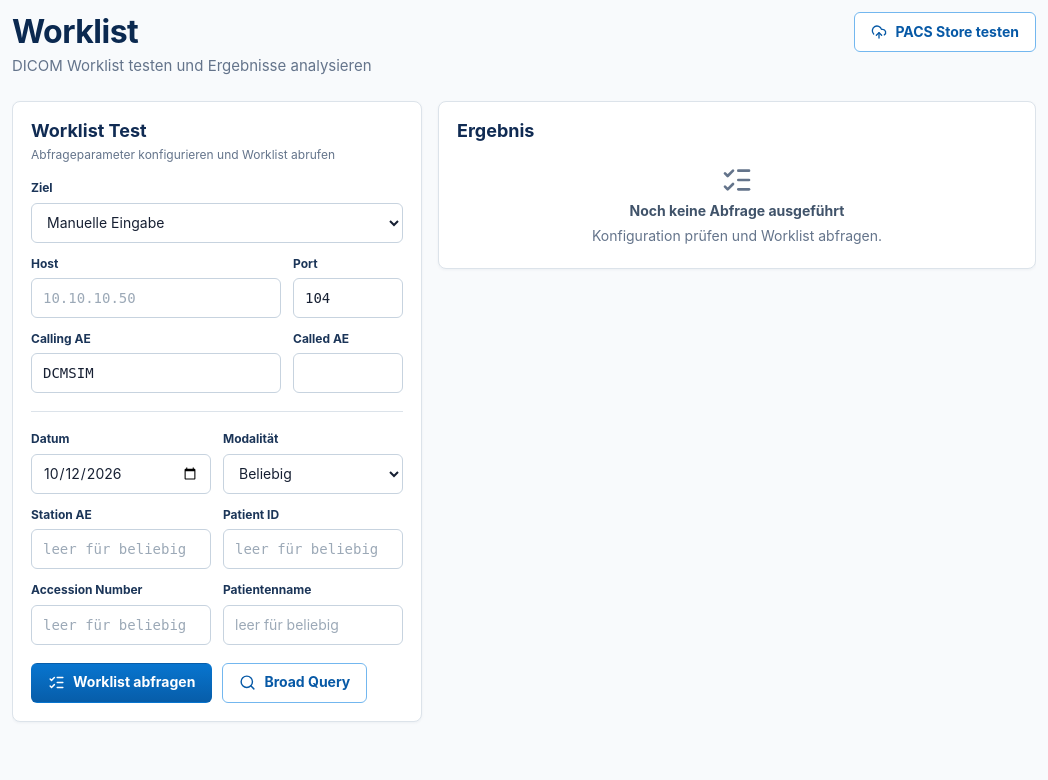
it: ignores a late Worklist response after the input changes
This screenshot has width=1048, height=780.
Type "127.0.0.1" into the field labelled "Host" at (156, 298), box top-left (31, 278), bottom-right (281, 318)
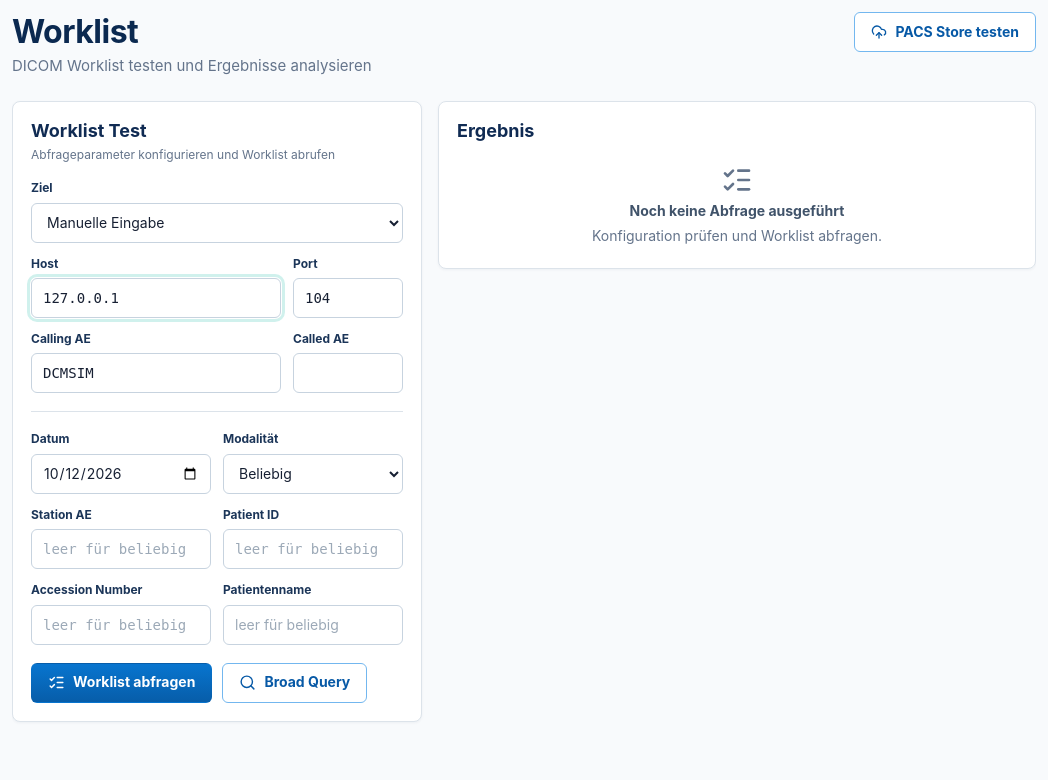
Type "TESTMWL" into the field labelled "Called AE" at (348, 373), box top-left (293, 353), bottom-right (403, 393)
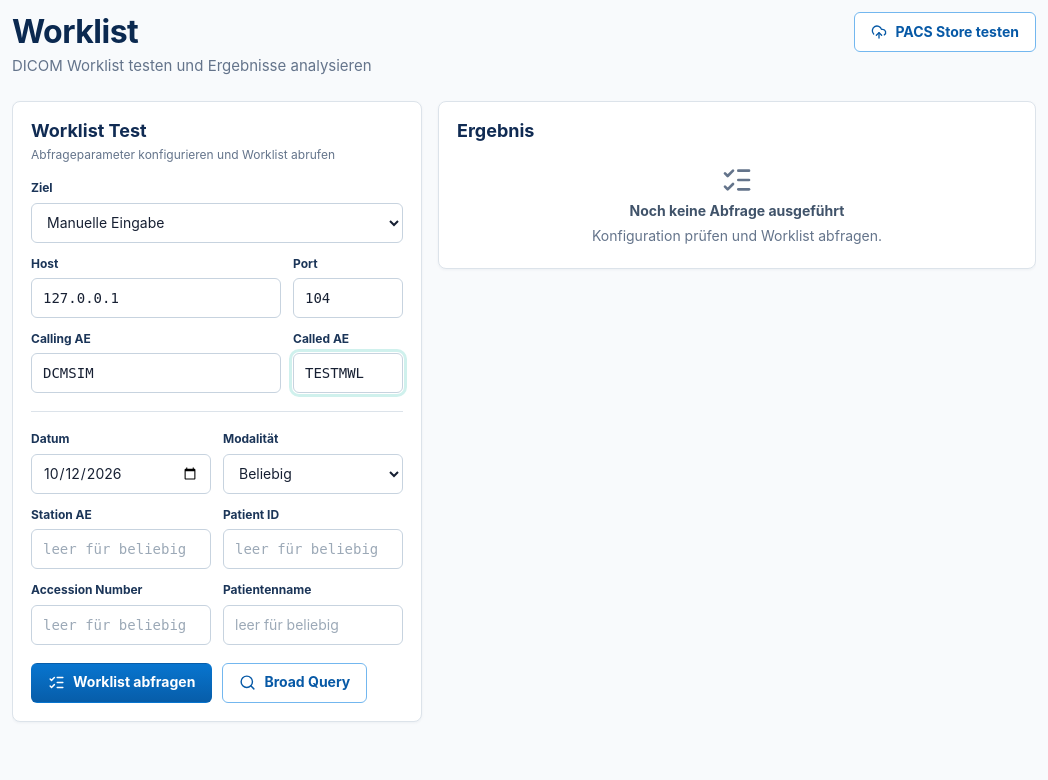
Click the button "Worklist abfragen" at (122, 683), box top-left (31, 663), bottom-right (212, 703)
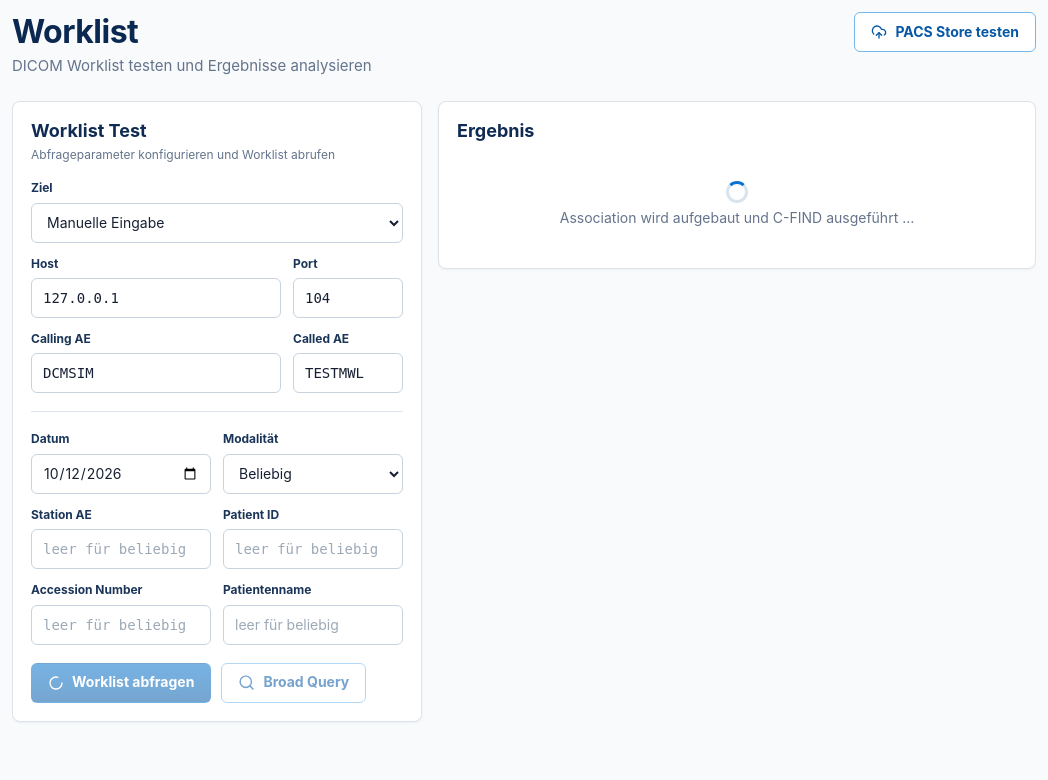
Type "P2" into the field labelled "Patient ID" at (313, 549), box top-left (223, 529), bottom-right (403, 569)
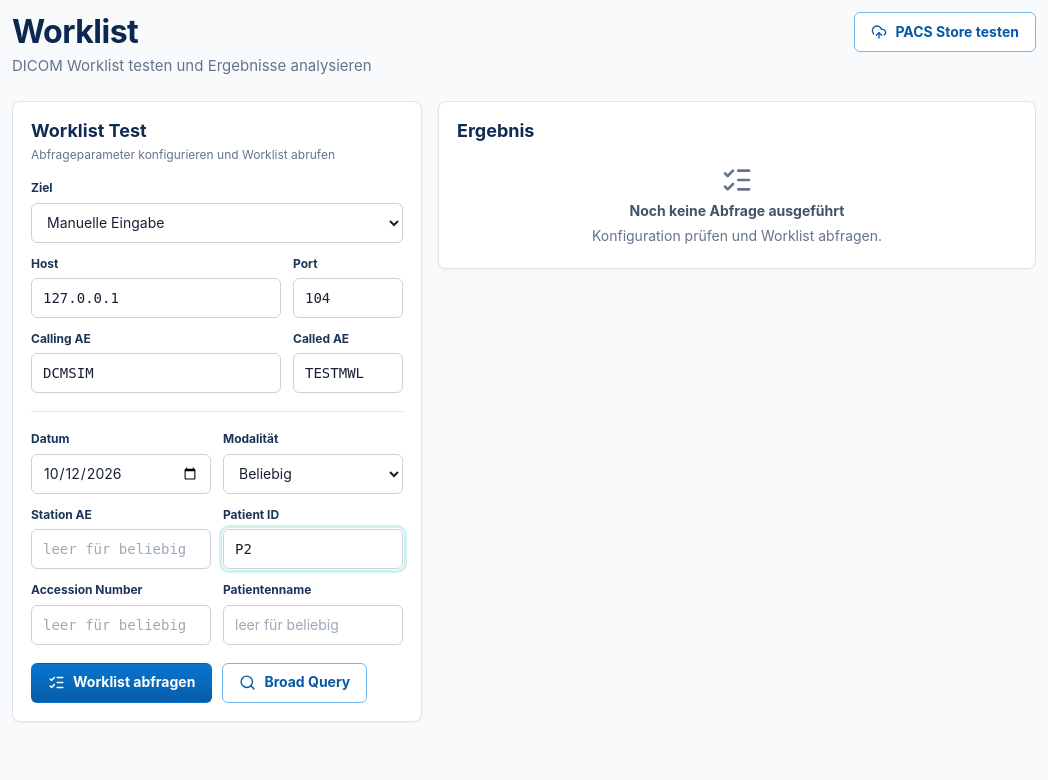
Now the button "Worklist abfragen" is enabled
Click the button "Worklist abfragen" at (122, 683), box top-left (31, 663), bottom-right (212, 703)
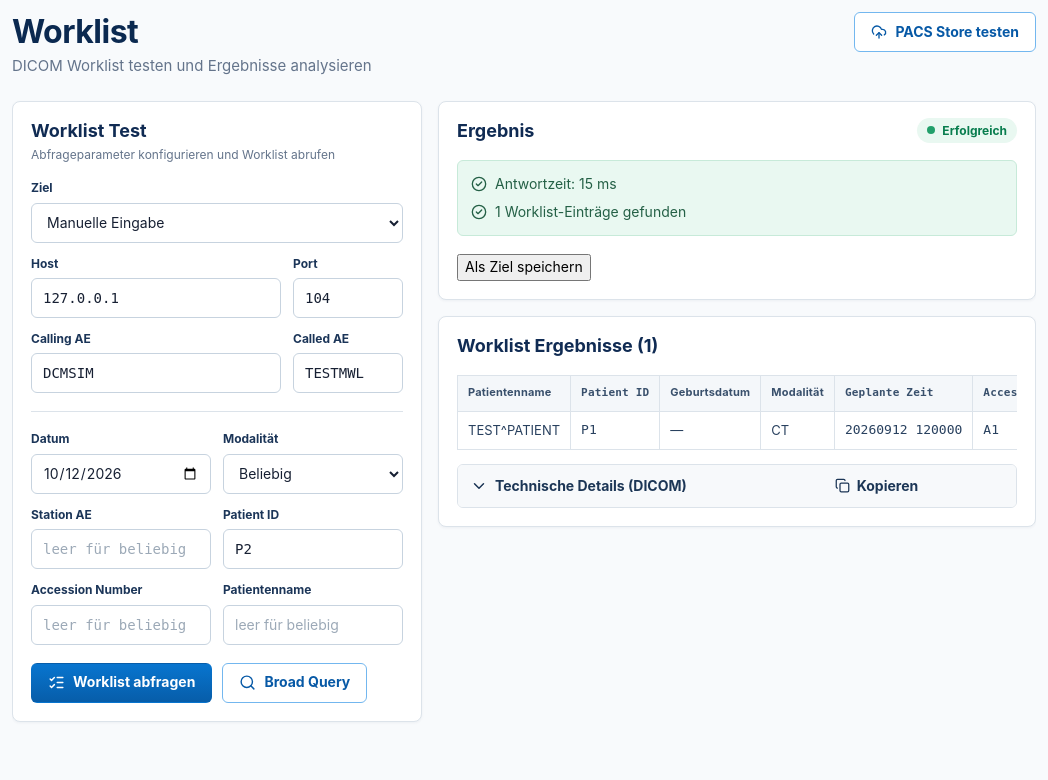
Now the text "TEST^PATIENT" is shown, box top-left (458, 411), bottom-right (571, 449)
